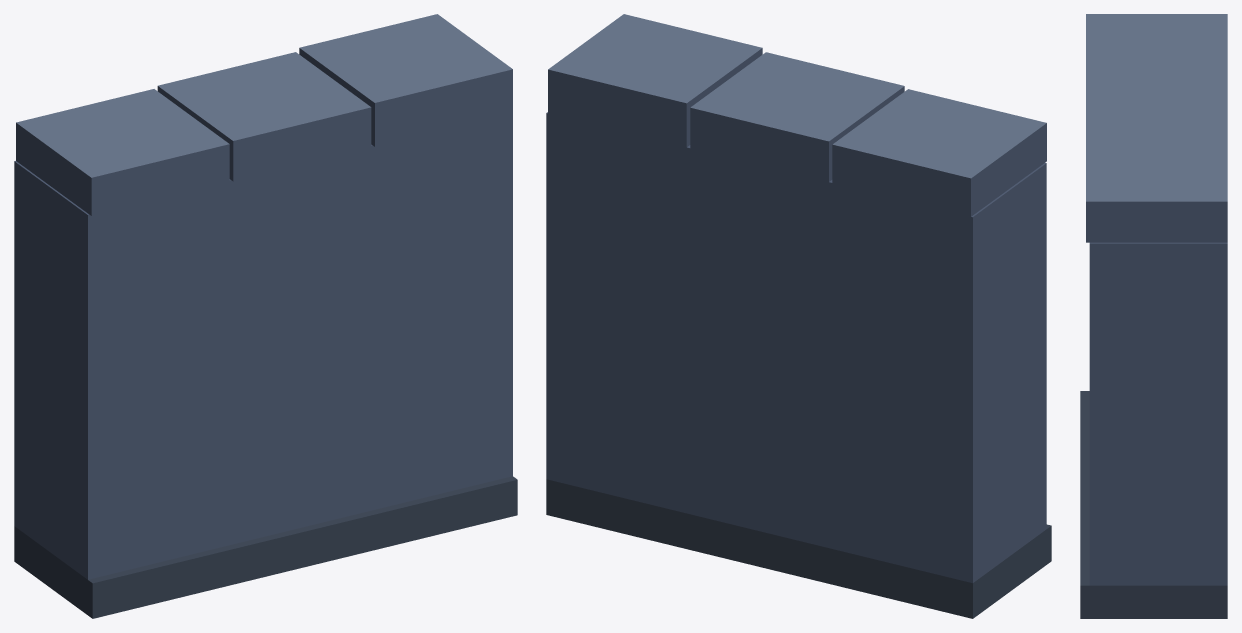
The model's file is kit_wall_stone.glb.
3 views of the same model, side by side, from view 1: azimuth 30°, elevation 25°; view 2: azimuth 150°, elevation 25°; view 3: azimuth 270°, elevation 25° (orthographic). The views are drawn at different scales.
Visible parts, largest first — view 1: kit_wall_stone; view 2: kit_wall_stone; view 3: kit_wall_stone.
Boxes of the visible parts, bbox=[...] form: kit_wall_stone: bbox=[14, 14, 517, 618]; kit_wall_stone: bbox=[546, 14, 1051, 618]; kit_wall_stone: bbox=[1080, 14, 1227, 618].
Bounding box in the file's own units: 1 × 0.9988 × 0.32.
1 material, 1 textured.
